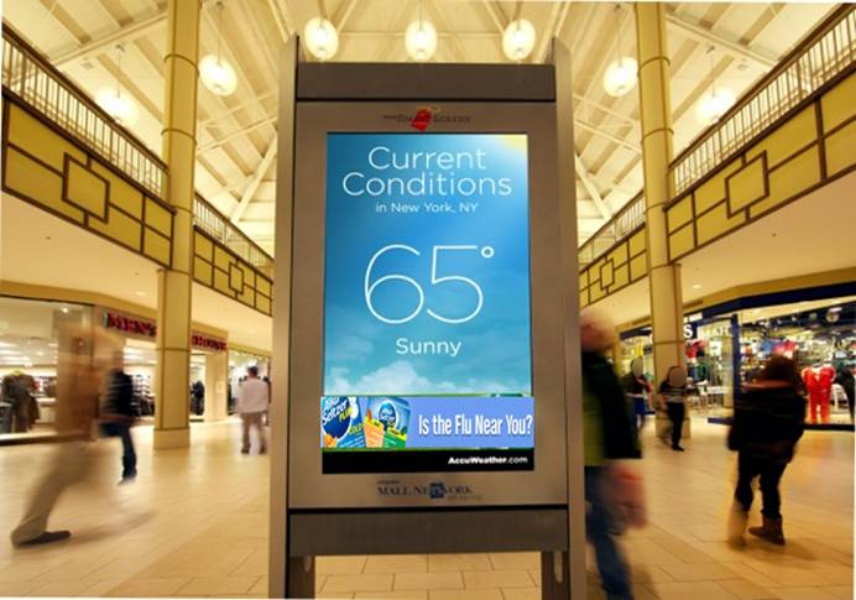text: (369, 242, 384, 327), (385, 242, 400, 327), (401, 242, 416, 327), (417, 242, 432, 327), (433, 242, 448, 327), (449, 242, 464, 327), (465, 242, 480, 327), (481, 242, 495, 327), (360, 242, 368, 327), (113, 310, 128, 339), (129, 310, 144, 339), (353, 170, 368, 198), (369, 170, 384, 198), (385, 170, 400, 198), (401, 170, 416, 198), (417, 170, 432, 198), (433, 170, 448, 198), (449, 170, 464, 198), (465, 170, 480, 198), (481, 170, 496, 198), (497, 170, 512, 198), (145, 310, 159, 339), (369, 145, 384, 171), (385, 145, 400, 171), (401, 145, 416, 171), (417, 145, 432, 171), (433, 145, 448, 171), (449, 145, 464, 171), (465, 145, 480, 171), (433, 412, 448, 437), (481, 412, 496, 436), (417, 414, 432, 437), (513, 415, 528, 438), (401, 336, 416, 358), (417, 336, 432, 358), (433, 336, 448, 358), (449, 336, 463, 358), (193, 332, 208, 352), (209, 332, 224, 352), (453, 411, 464, 436), (343, 170, 352, 198), (465, 200, 479, 216), (385, 484, 400, 498), (401, 484, 416, 498), (449, 484, 464, 498), (449, 453, 464, 467), (465, 453, 480, 467), (481, 453, 496, 467), (497, 453, 512, 467), (513, 453, 528, 467), (465, 411, 473, 436), (433, 202, 448, 215), (705, 325, 720, 338), (481, 145, 488, 171), (106, 310, 112, 339), (497, 412, 504, 436), (417, 484, 429, 498), (401, 202, 416, 213), (433, 114, 448, 125), (449, 114, 464, 125), (505, 415, 512, 438), (465, 484, 476, 498), (474, 412, 480, 436), (721, 325, 732, 338), (529, 415, 535, 438), (394, 336, 400, 358), (375, 484, 384, 498), (375, 202, 384, 215), (457, 200, 464, 216), (385, 113, 399, 121), (390, 202, 400, 213), (449, 202, 457, 215), (449, 412, 453, 437), (425, 202, 432, 215), (682, 323, 688, 338), (465, 114, 472, 125), (689, 323, 694, 338), (225, 332, 228, 352), (385, 202, 389, 215), (445, 484, 448, 498), (445, 453, 448, 467), (701, 325, 704, 338), (417, 202, 420, 213), (513, 170, 514, 198), (529, 453, 531, 467), (431, 412, 432, 437), (381, 113, 384, 121), (191, 332, 192, 352)
